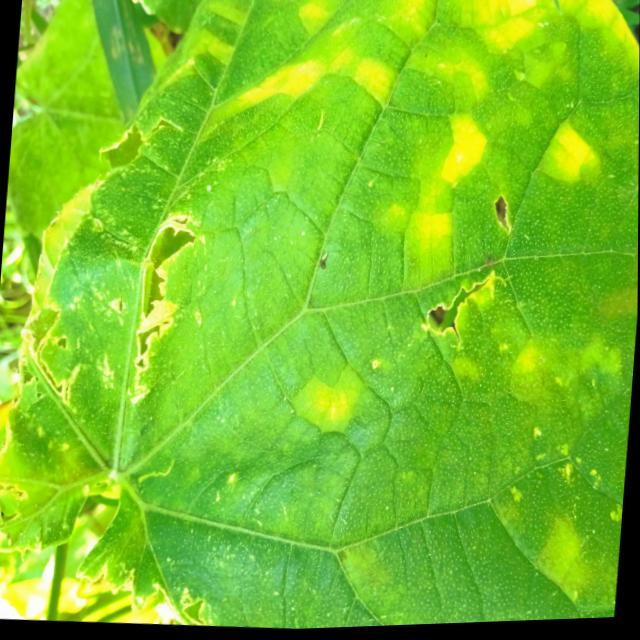Downy-Mildew: (135, 0, 640, 629)
